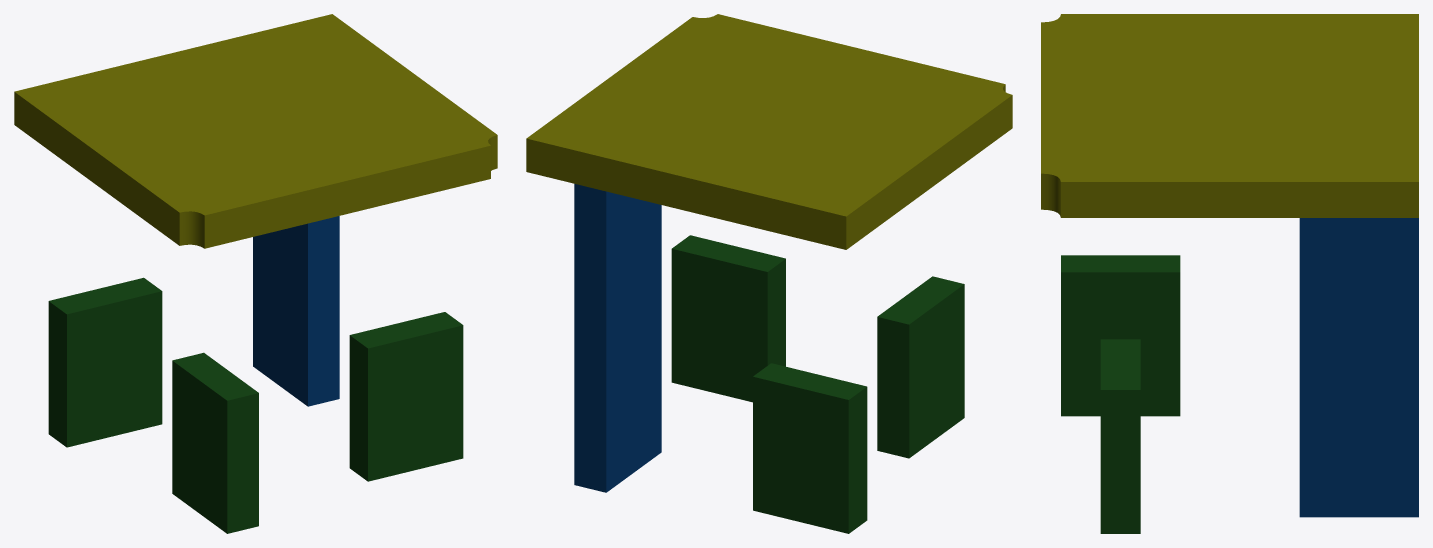
File: T10DirB.fbx
The picture shows the model from 3 angles, left to right: view 1: azimuth 30°, elevation 25°; view 2: azimuth 150°, elevation 25°; view 3: azimuth 270°, elevation 25°; orthographic projection. The views are drawn at different scales.
Visible parts, largest first — view 1: 1, 3, 4, 2; view 2: 2, 4, 3, 1; view 3: 2, 3, 1, 4.
Part boxes in pixels (x1,y1,x2,y2): 1: (261,78,497,481); 3: (101,116,347,533); 4: (14,53,259,447); 2: (173,14,419,406); 2: (526,74,773,492); 4: (686,113,933,533); 3: (774,49,1012,458); 1: (614,14,861,402); 2: (1230,98,1418,517); 3: (1041,14,1229,416); 1: (1041,98,1229,533); 4: (1230,14,1418,97).
Size of the model in its own units: 200 by 200 by 190.
